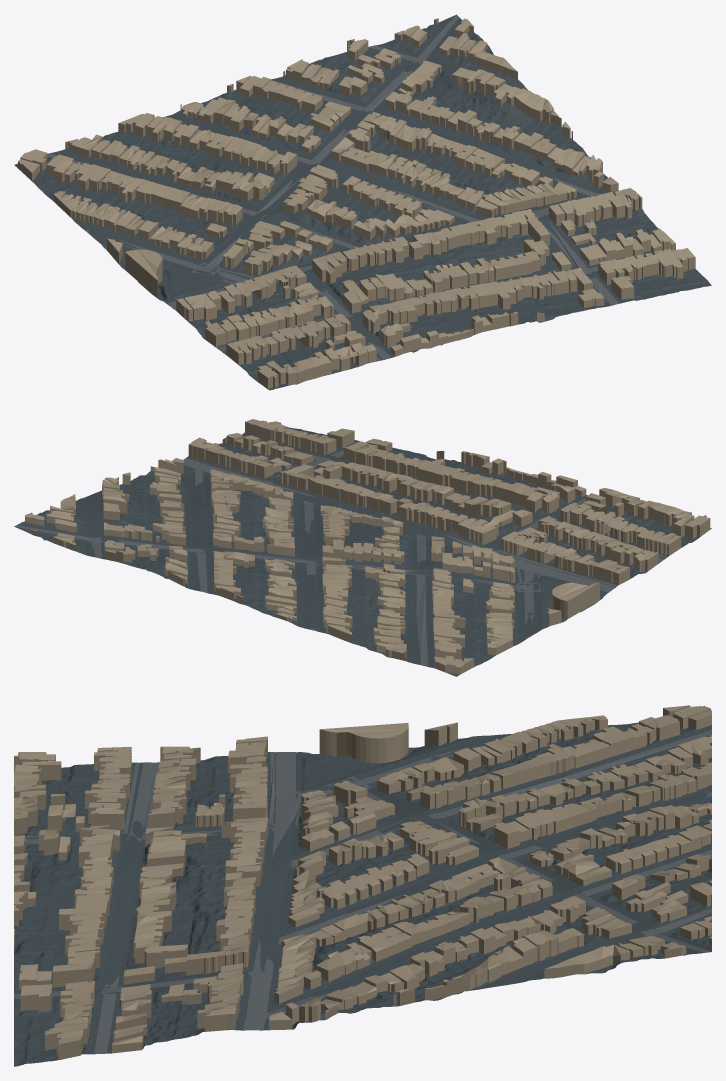
Rendered from epsg26910-1433-10874.lod0.glb.
The picture shows the model from 3 angles, top to bottom: view 1: azimuth 30°, elevation 25°; view 2: azimuth 150°, elevation 25°; view 3: azimuth 270°, elevation 25°; orthographic projection. The views are drawn at different scales.
Parts seen in each view (by area): view 1: epsg26910-1433-10874-lod0; view 2: epsg26910-1433-10874-lod0; view 3: epsg26910-1433-10874-lod0.
Part boxes in pixels (x1,y1,x2,y2): epsg26910-1433-10874-lod0: (14,14,711,390); epsg26910-1433-10874-lod0: (14,419,711,676); epsg26910-1433-10874-lod0: (14,705,711,1066).
Size of the model in its own units: 384 by 72.4 by 384.
